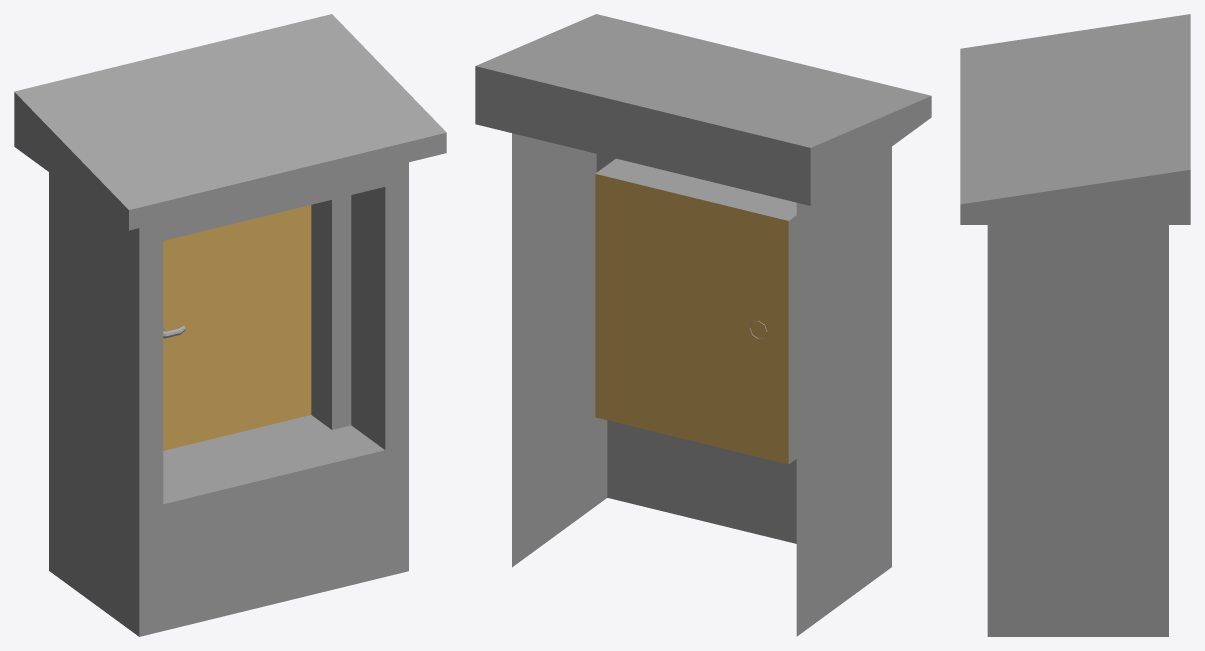
Rendered from Door.2.fbx.
3 views of the same model, side by side, from view 1: azimuth 30°, elevation 25°; view 2: azimuth 150°, elevation 25°; view 3: azimuth 270°, elevation 25° (orthographic). The views are drawn at different scales.
Parts seen in each view (by area): view 1: Door.2; view 2: Door.2; view 3: Door.2.
Boxes of the visible parts, bbox=[...] form: Door.2: bbox=[14, 14, 446, 636]; Door.2: bbox=[475, 14, 931, 636]; Door.2: bbox=[960, 14, 1190, 636].
Size of the model in its own units: 1.61 by 2.31 by 1.01.
